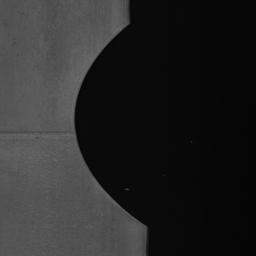Crescent gap: (75, 25, 145, 225)
